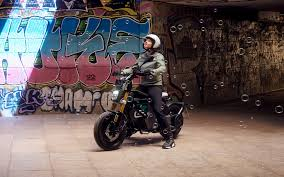motorcycle: (90, 69, 186, 150)
